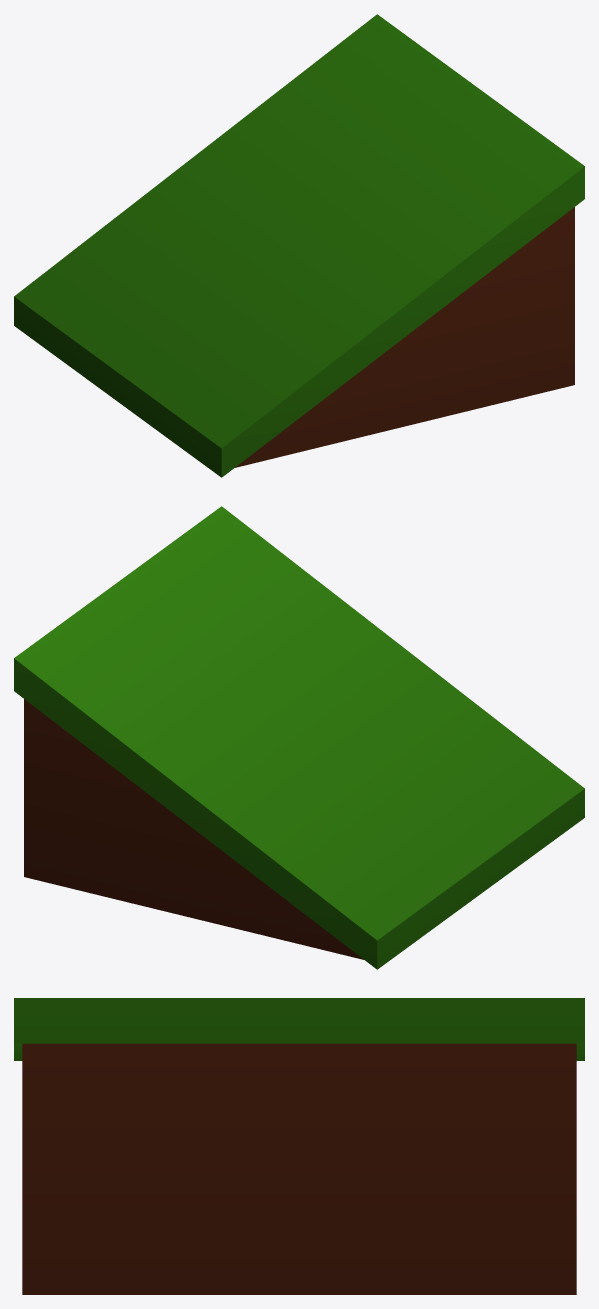
Rendered from ridge_ramp.glb.
3 renders of one model, top to bottom at view 1: azimuth 30°, elevation 25°; view 2: azimuth 150°, elevation 25°; view 3: azimuth 270°, elevation 25°, orthographic. The views are drawn at different scales.
Visible parts, largest first — view 1: ridge_ramp_root_body; view 2: ridge_ramp_root_body; view 3: ridge_ramp_root_body.
Boxes of the visible parts, bbox=[...] form: ridge_ramp_root_body: bbox=[14, 14, 584, 477]; ridge_ramp_root_body: bbox=[14, 506, 584, 969]; ridge_ramp_root_body: bbox=[14, 998, 584, 1294].
Size of the model in its own units: 2.08 by 1.22 by 2.06.
